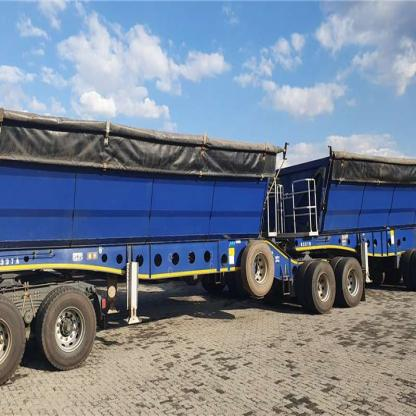dump_truck: (1, 90, 414, 392)
